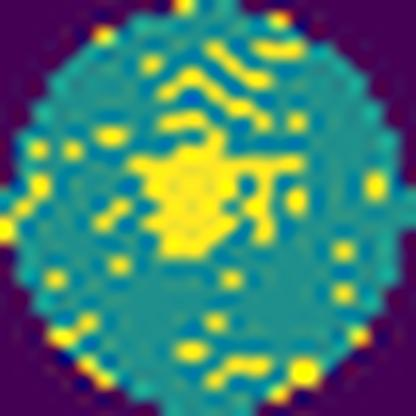Center: (128, 112, 305, 258)
